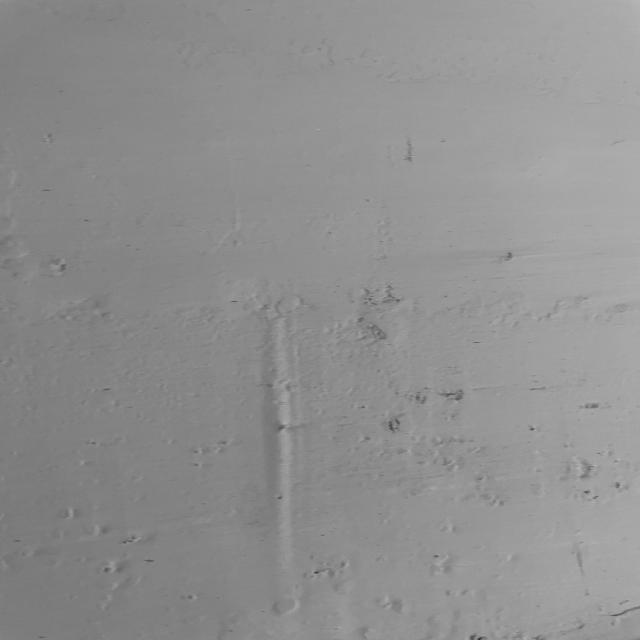rough and patchy surface: (11, 9, 635, 637), (45, 494, 206, 610), (188, 398, 341, 478), (307, 279, 444, 365), (169, 279, 305, 342), (508, 445, 629, 514), (418, 504, 495, 595), (289, 547, 387, 613), (364, 394, 440, 454), (44, 250, 78, 281)
